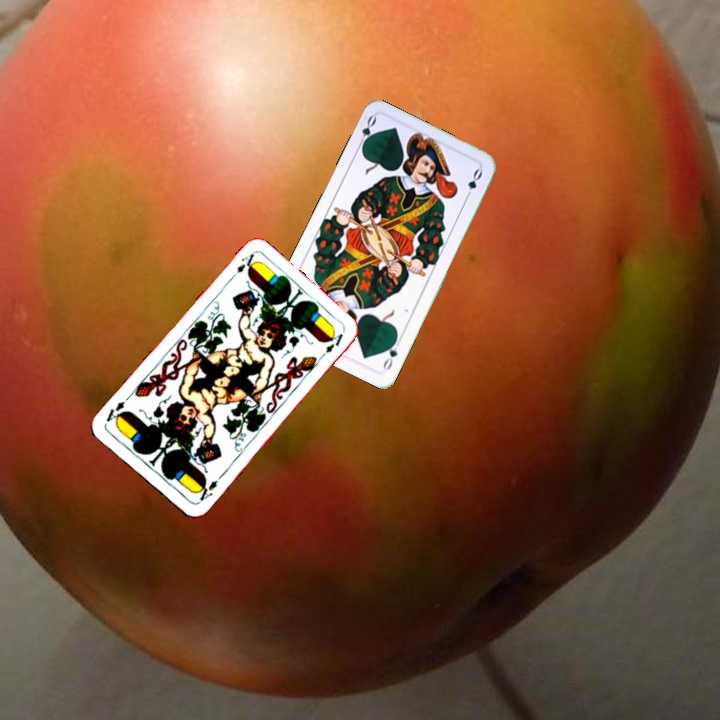EA: (192, 476, 221, 506), (233, 249, 258, 276)
GO: (354, 111, 379, 152), (379, 334, 404, 373)
